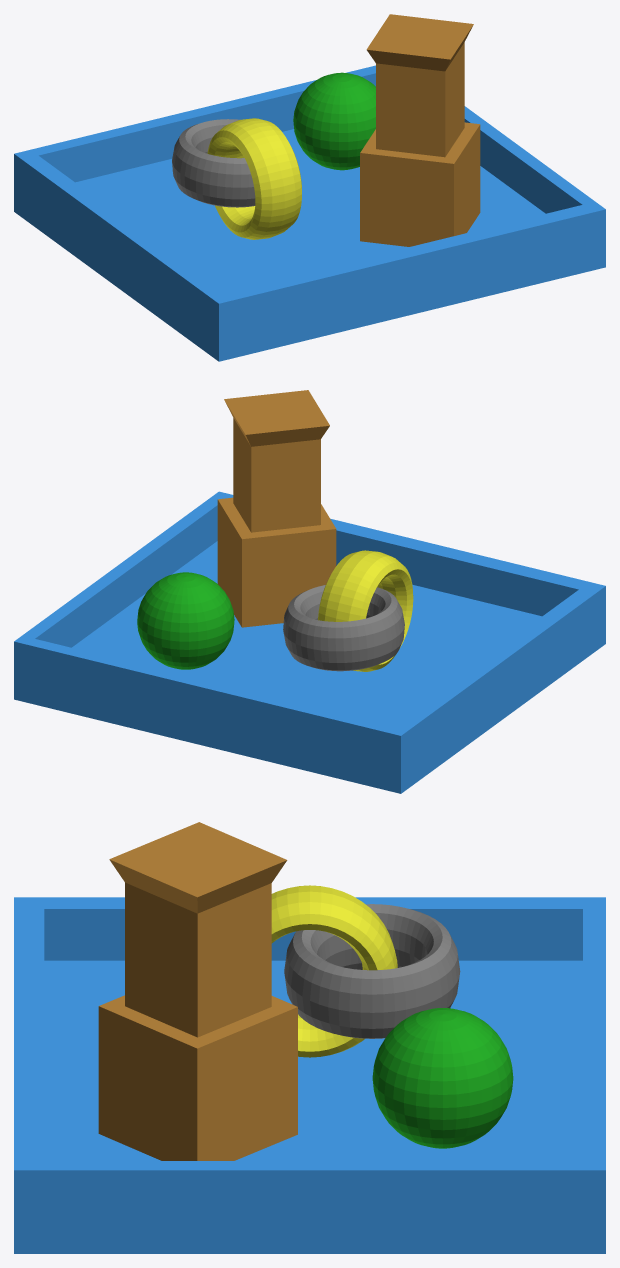
File: random_shapes.gltf
3 views of the same model, one above another, from view 1: azimuth 30°, elevation 25°; view 2: azimuth 150°, elevation 25°; view 3: azimuth 270°, elevation 25° (orthographic). The views are drawn at different scales.
Visible parts, largest first — view 1: Cube, Cube.001, Torus, Sphere, Torus.002; view 2: Cube, Cube.001, Sphere, Torus.002, Torus; view 3: Cube, Cube.001, Sphere, Torus.002, Torus.
Boxes of the visible parts, box(x1,y1,x2,y2) form: Cube: box(14, 65, 605, 361); Cube.001: box(360, 14, 480, 246); Torus: box(207, 118, 301, 239); Sphere: box(293, 72, 375, 170); Torus.002: box(172, 119, 287, 207); Cube: box(14, 491, 605, 793); Cube.001: box(217, 390, 336, 627); Sphere: box(137, 572, 234, 669); Torus.002: box(283, 585, 404, 671); Torus: box(318, 550, 413, 671); Cube: box(14, 897, 605, 1253); Cube.001: box(98, 822, 297, 1160); Sphere: box(372, 1008, 513, 1148); Torus.002: box(284, 904, 460, 1038); Torus: box(271, 885, 397, 1057).
Size of the model in its own units: 9.16 by 4.83 by 8.4.
